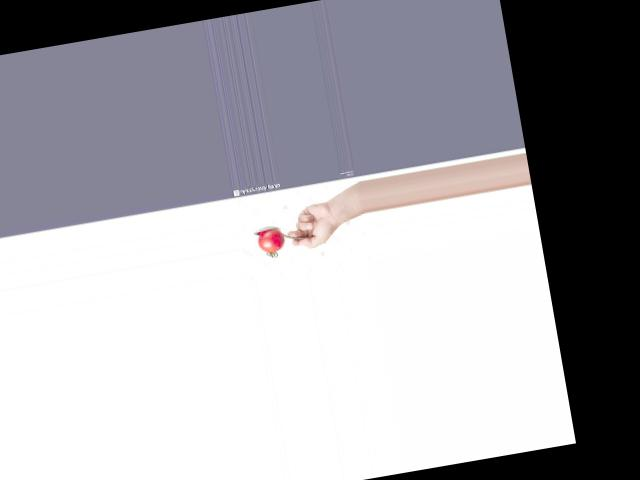tomato: (257, 227, 287, 254)
